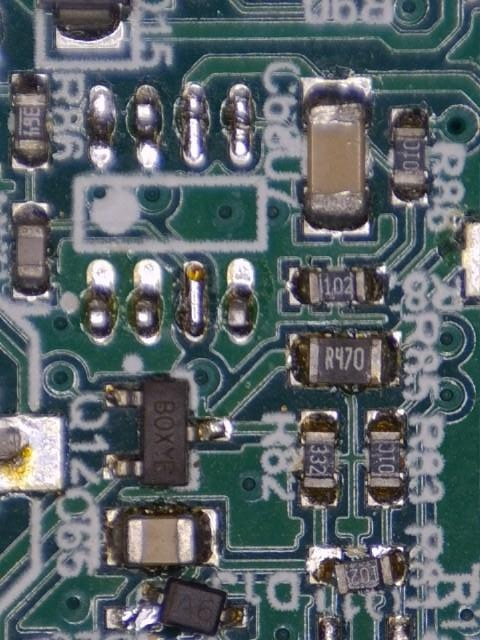pcb_defect: (102, 576, 247, 639), (306, 544, 406, 596)
